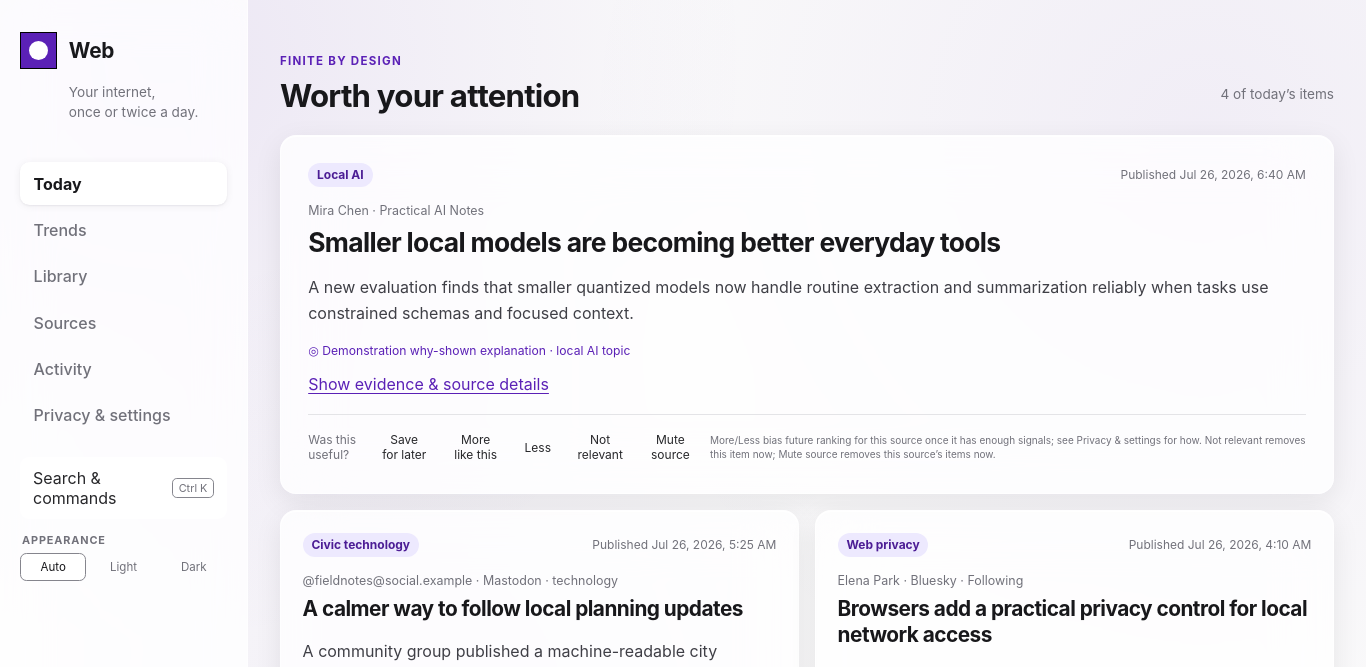
Test case: calm dashboard › surfaces original-opening failures through the existing notice
(page scrolled)
Click the button with aria-label "Show evidence for Smaller local models".
click(429, 384)  # box [308,370,549,398]
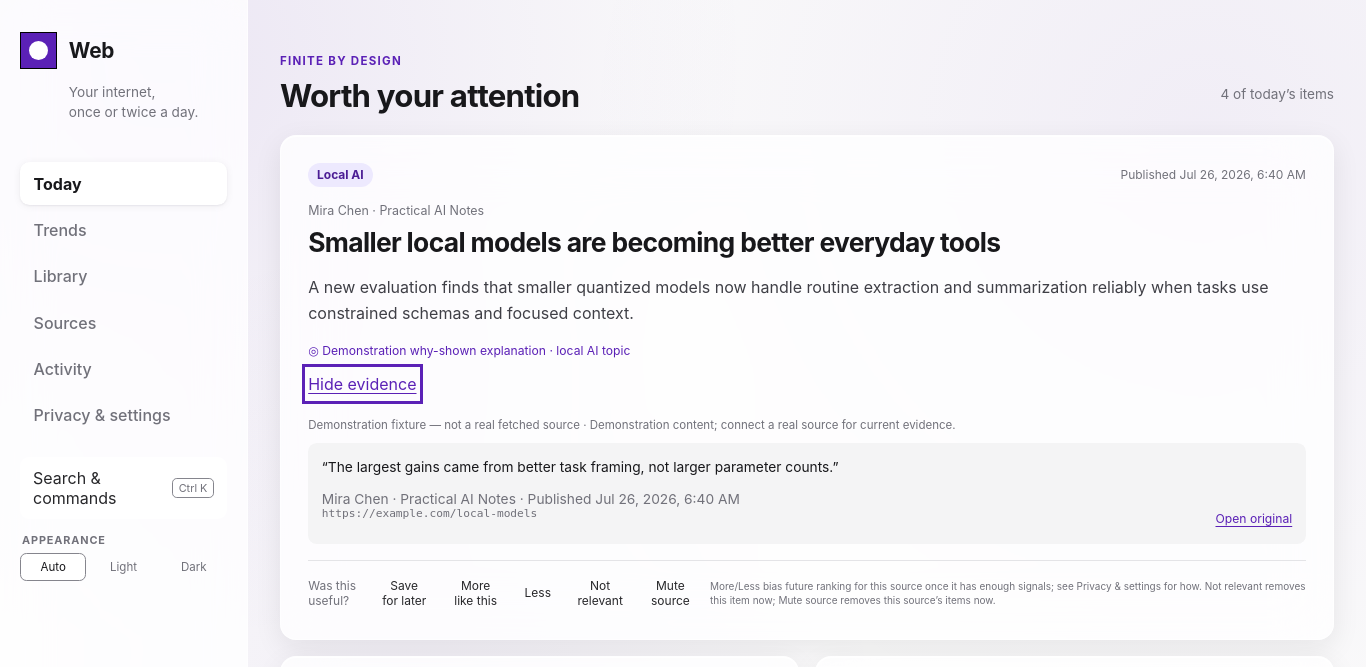
Click the button "Open original".
click(1254, 519)  # box [1216,507,1292,530]
(page scrolled)
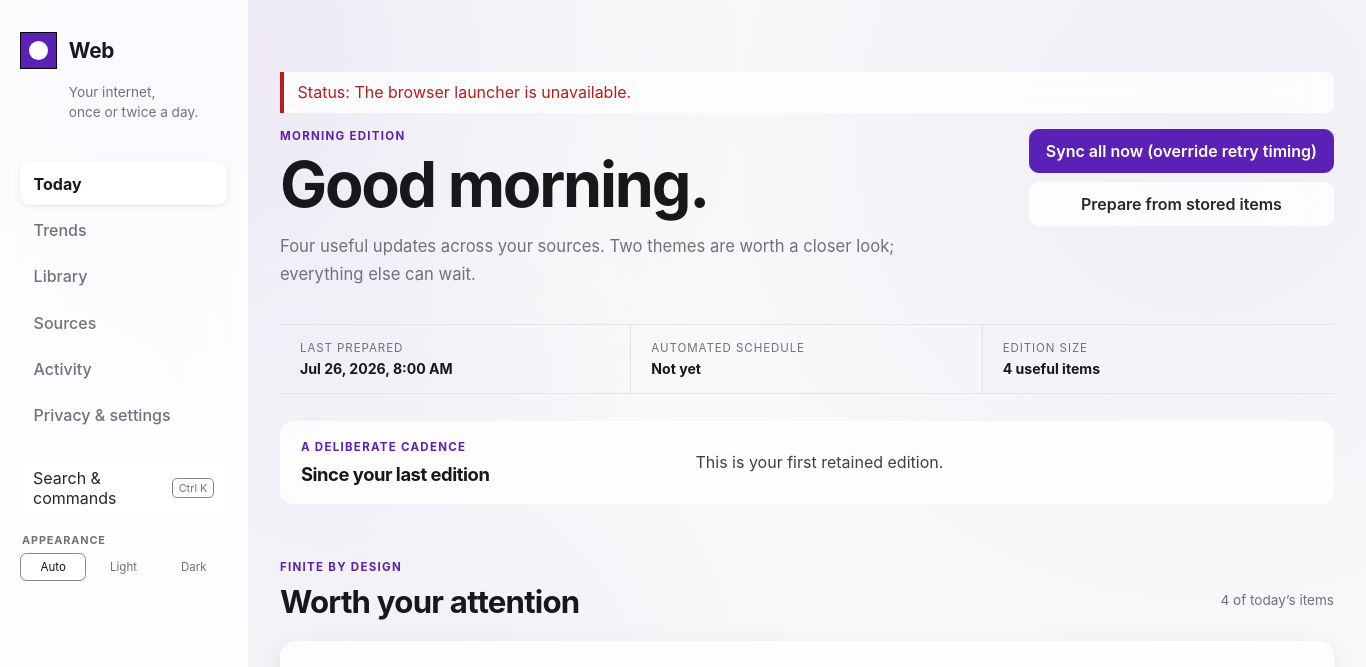
Expected: the text "Status: The browser launcher is unavailable." is shown, [280,72,1334,113]
